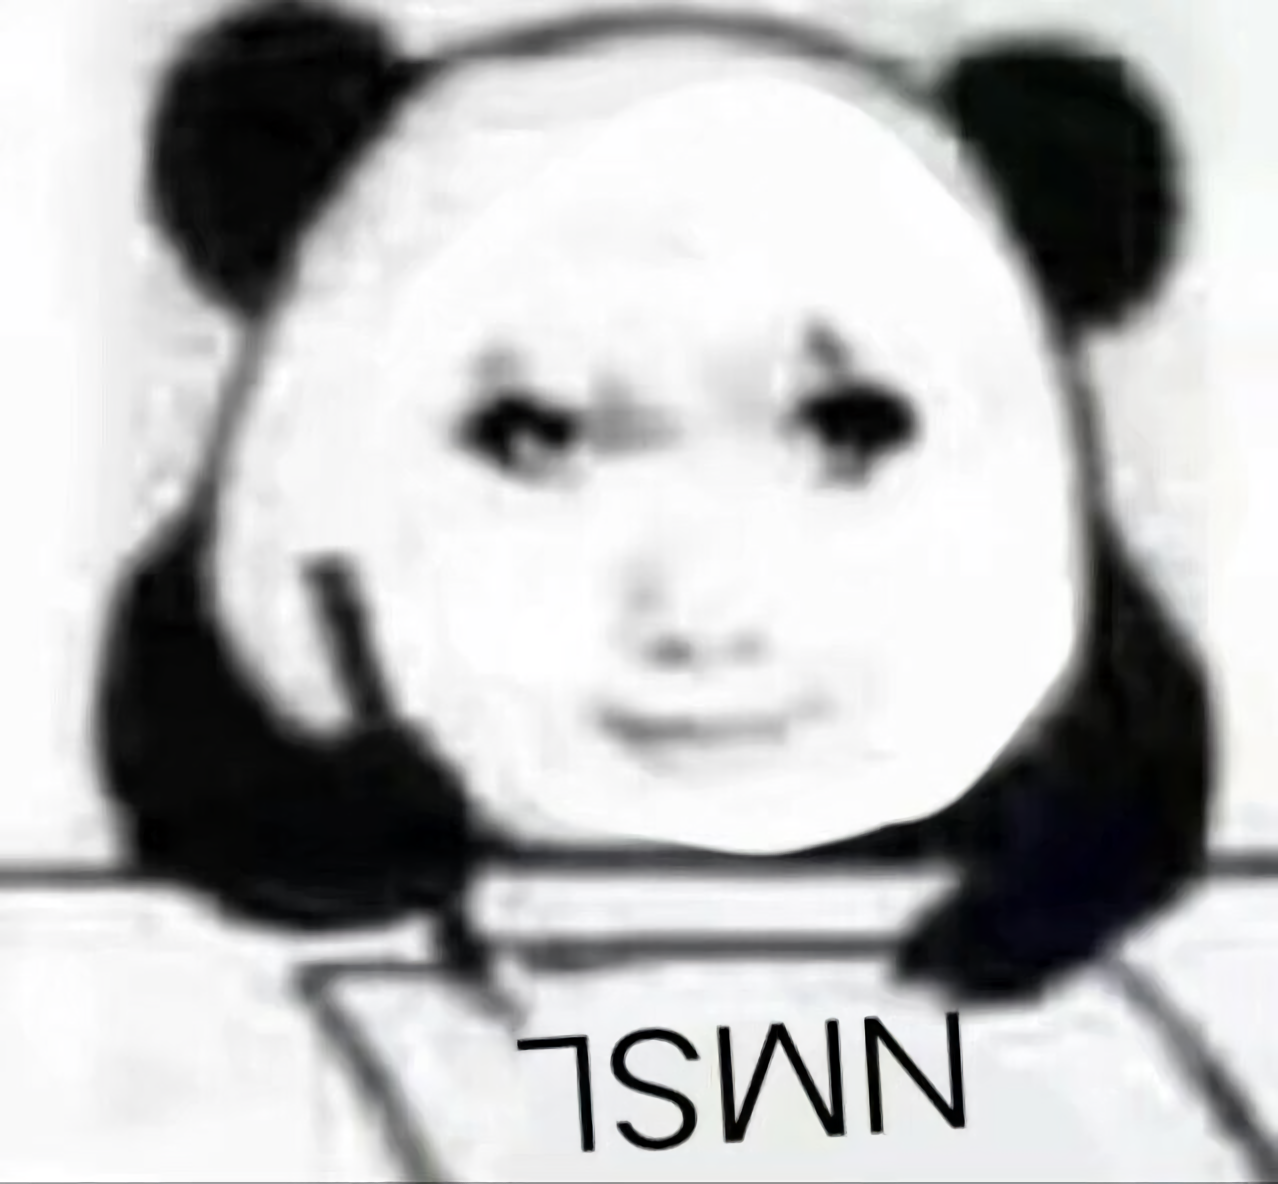dragon: (440, 318, 942, 769)
